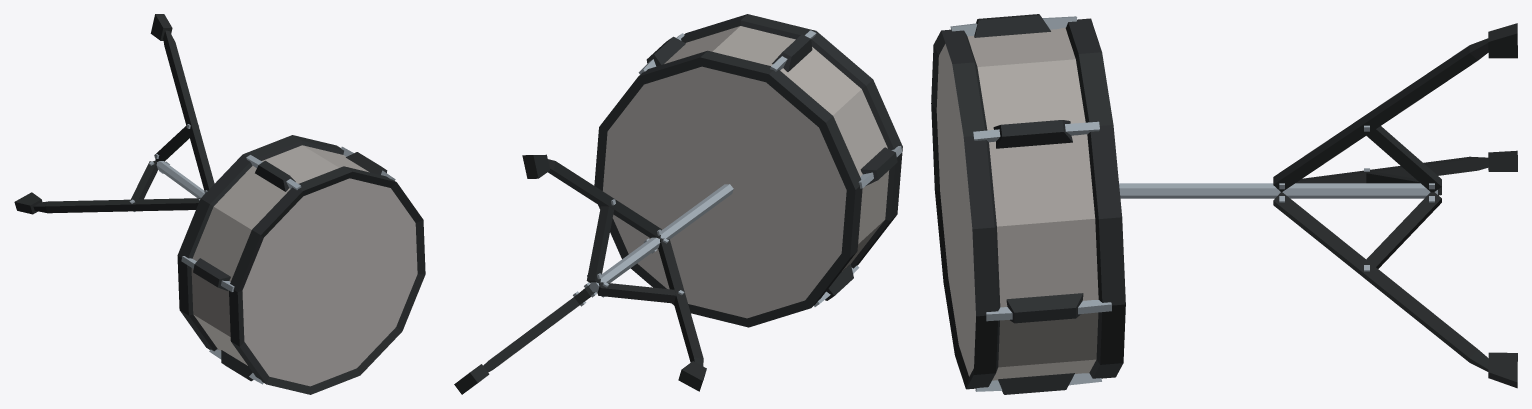
File: SM_Prop_Music_Drums_Kit_01_Seat_01_Part_01.062.obj
3 views of the same model, side by side, from view 1: azimuth 30°, elevation 25°; view 2: azimuth 150°, elevation 25°; view 3: azimuth 270°, elevation 25° (orthographic). The views are drawn at different scales.
Parts seen in each view (by area): view 1: SM_Prop_Music_Drums_Kit_01_Seat_01_Part_01.062_0; view 2: SM_Prop_Music_Drums_Kit_01_Seat_01_Part_01.062_0; view 3: SM_Prop_Music_Drums_Kit_01_Seat_01_Part_01.062_0.
Part boxes in pixels (x1,y1,x2,y2): SM_Prop_Music_Drums_Kit_01_Seat_01_Part_01.062_0: [14, 14, 425, 394]; SM_Prop_Music_Drums_Kit_01_Seat_01_Part_01.062_0: [454, 14, 902, 394]; SM_Prop_Music_Drums_Kit_01_Seat_01_Part_01.062_0: [931, 14, 1517, 394].
Size of the model in its own units: 55.09 by 53.54 by 79.55.
